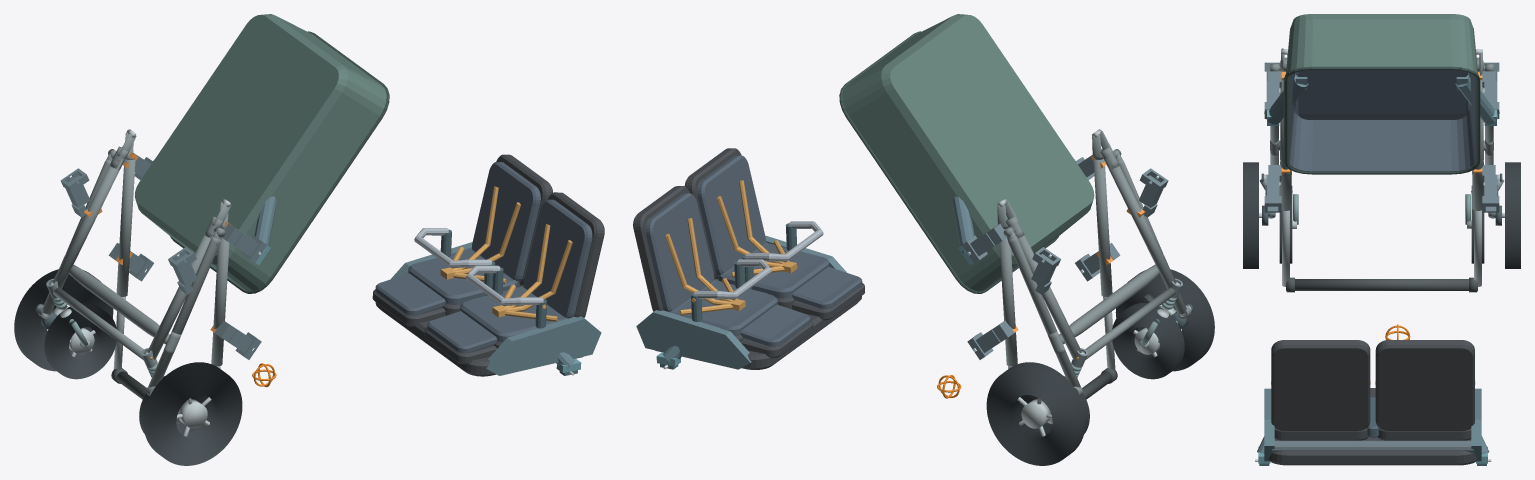
Rendered from D27_w650_state3_wheel_M.glb.
3 renders of one model, left to right at view 1: azimuth 30°, elevation 25°; view 2: azimuth 150°, elevation 25°; view 3: azimuth 270°, elevation 25°, orthographic.
Parts seen in each view (by area): view 1: D27_Lower, D27_Upper, RL_tire.011, FR_tire.011, RR_tire.011, main_upper_1.012, main_lower_1.012, V46_rearbar.011, V46_rear_leg_-1.011, main_upper_-1.012, main_lower_-1.012, front_fixed_round_tube.011 (+7 smaller); view 2: D27_Lower, D27_Upper, RR_tire.011, FL_tire.011, RL_tire.011, main_upper_-1.012, main_lower_-1.012, V46_rearbar.011, V46_rear_leg_1.011, main_upper_1.012, main_lower_1.012, front_fixed_round_tube.011 (+7 smaller); view 3: D27_Lower, D27_Upper, round_handle.013, RL_tire.011, RR_tire.011, D27_Lower_Mount_M, Universal_Cabin_Receiver_H_1, Universal_Cabin_Receiver_H_-1, main_upper_1.012, main_upper_-1.012, handle_slider_1.013, handle_slider_-1.013 (+5 smaller).
Boxes of the visible parts, box(x1,y1,x2,y2) form: D27_Lower: box(134, 14, 389, 293); D27_Upper: box(372, 154, 604, 376); RL_tire.011: box(143, 362, 242, 465); FR_tire.011: box(44, 303, 116, 379); RR_tire.011: box(14, 269, 113, 371); main_upper_1.012: box(116, 159, 135, 296); main_lower_1.012: box(52, 159, 123, 288); V46_rearbar.011: box(69, 264, 169, 344); V46_rear_leg_-1.011: box(148, 236, 221, 387); main_upper_-1.012: box(211, 229, 229, 366); main_lower_-1.012: box(147, 233, 214, 359); front_fixed_round_tube.011: box(53, 287, 143, 359); D27_Lower: box(839, 14, 1094, 293); D27_Upper: box(633, 148, 864, 369); RR_tire.011: box(986, 362, 1085, 465); FL_tire.011: box(1112, 303, 1184, 379); RL_tire.011: box(1115, 269, 1214, 371); main_upper_-1.012: box(1093, 159, 1112, 296); main_lower_-1.012: box(1105, 159, 1176, 288); V46_rearbar.011: box(1059, 264, 1159, 344); V46_rear_leg_1.011: box(1008, 236, 1080, 387); main_upper_1.012: box(999, 229, 1017, 366); main_lower_1.012: box(1016, 235, 1081, 359); front_fixed_round_tube.011: box(1085, 287, 1175, 359); D27_Lower: box(1283, 14, 1480, 174); D27_Upper: box(1264, 340, 1481, 465); round_handle.013: box(1286, 279, 1477, 290); RL_tire.011: box(1243, 162, 1258, 268); RR_tire.011: box(1505, 162, 1520, 268); D27_Lower_Mount_M: box(1264, 73, 1499, 125); Universal_Cabin_Receiver_H_1: box(1482, 165, 1499, 212); Universal_Cabin_Receiver_H_-1: box(1264, 165, 1281, 212); main_upper_1.012: box(1472, 80, 1483, 210); main_upper_-1.012: box(1280, 80, 1291, 210); handle_slider_1.013: box(1474, 210, 1481, 286); handle_slider_-1.013: box(1282, 210, 1289, 286).
Size of the model in its own units: 1.55 by 1.08 by 0.781.
